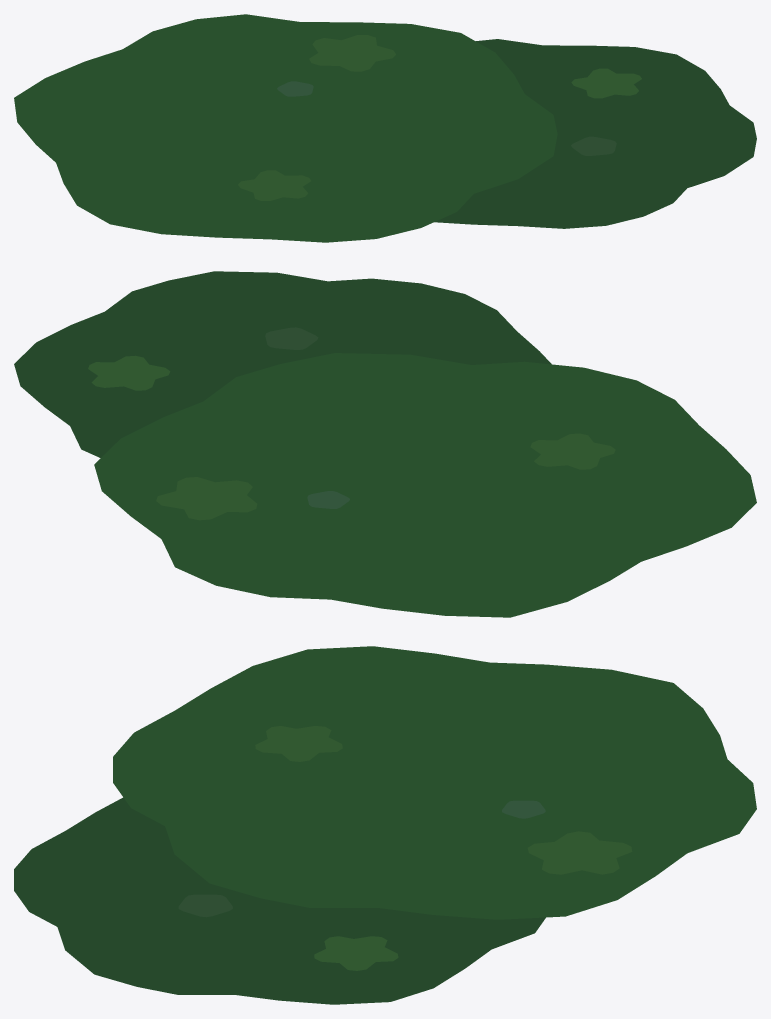
Rendered from Ground_Grass_Mesh.fbx.
3 views of the same model, one above another, from view 1: azimuth 30°, elevation 25°; view 2: azimuth 150°, elevation 25°; view 3: azimuth 270°, elevation 25° (orthographic). The views are drawn at different scales.
Visible parts, largest first — view 1: Ground_Grass_Mesh; view 2: Ground_Grass_Mesh; view 3: Ground_Grass_Mesh.
Part boxes in pixels (x1=…): Ground_Grass_Mesh: x1=14, y1=14, x2=756, y2=242; Ground_Grass_Mesh: x1=14, y1=271, x2=756, y2=617; Ground_Grass_Mesh: x1=14, y1=646, x2=756, y2=1004.
Bounding box in the file's own units: 90.74 × 0.5021 × 80.1.
